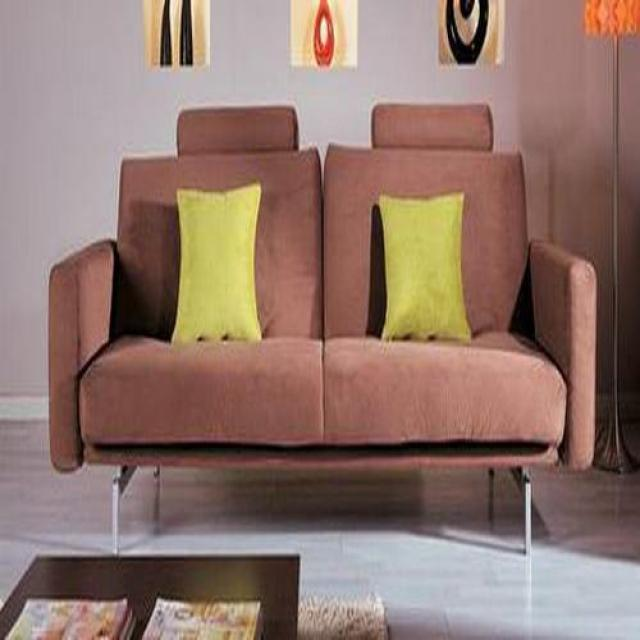sofa: (47, 145, 596, 558)
